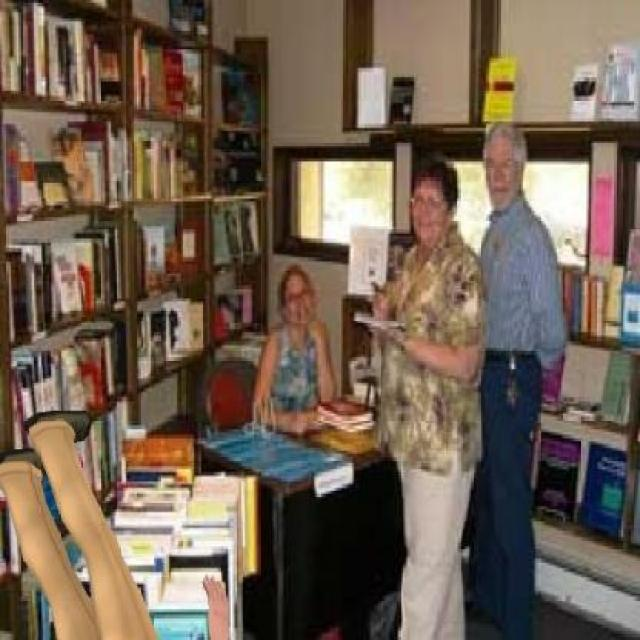Person: (0, 402, 237, 638)
